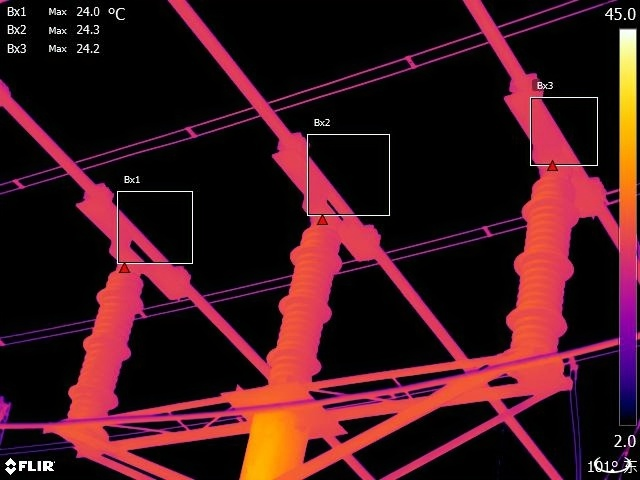post insulator: (498, 172, 592, 354), (255, 215, 346, 387), (58, 266, 146, 417)
